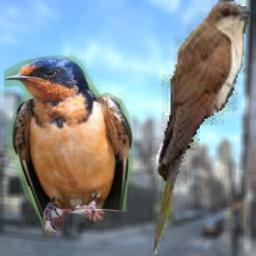Cuckoo: (152, 0, 253, 256)
Swallow: (4, 55, 134, 232)
